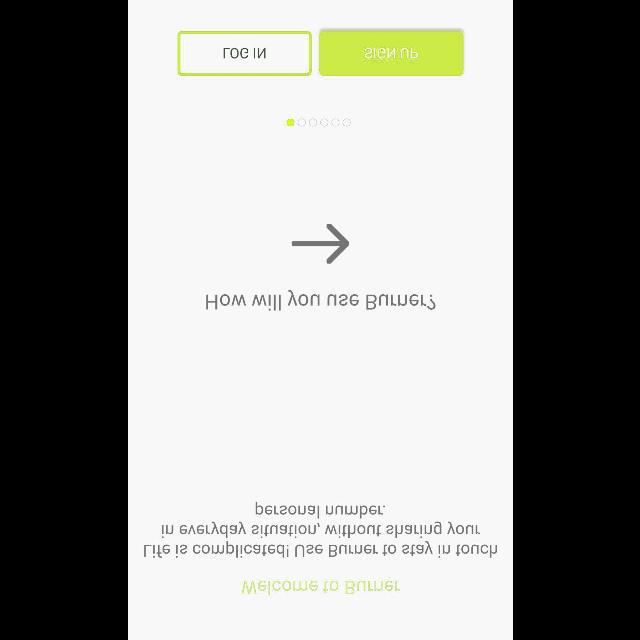icon: (291, 224, 349, 264)
pageindicator: (286, 118, 350, 126)
text: (144, 502, 496, 558), (205, 290, 435, 310), (240, 580, 400, 596)
textbutton: (318, 32, 464, 76), (177, 32, 311, 76)
